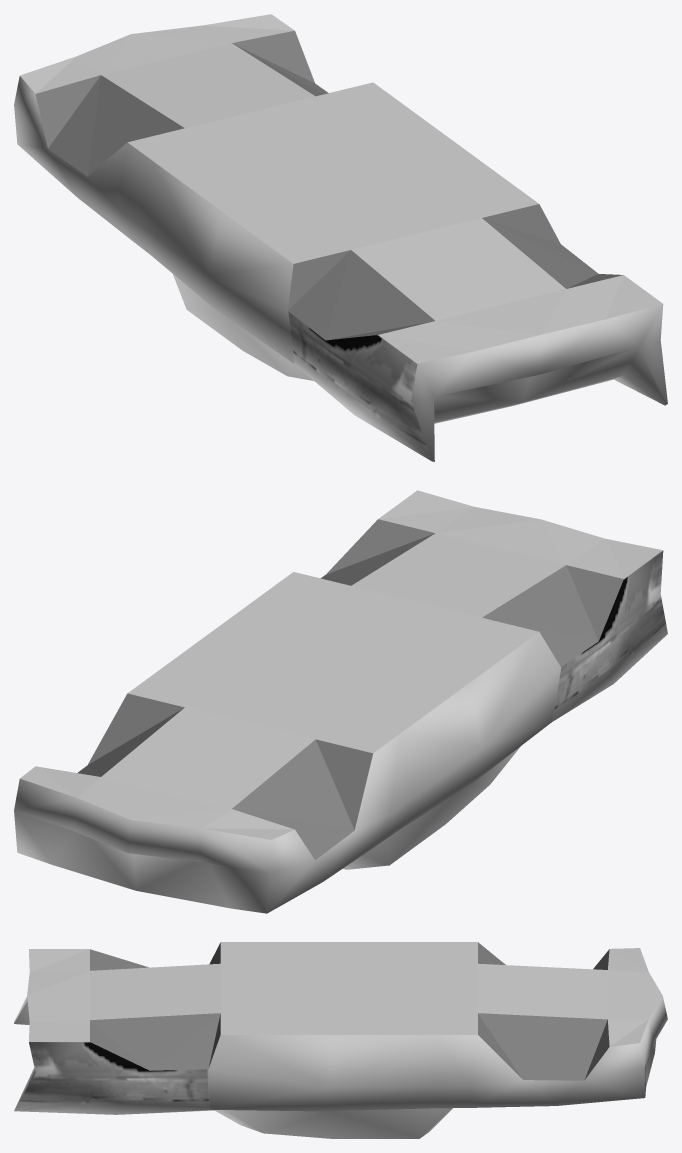
The model's file is HAVANA_model0_clean.obj.
3 renders of one model, top to bottom at view 1: azimuth 30°, elevation 25°; view 2: azimuth 150°, elevation 25°; view 3: azimuth 270°, elevation 25°, orthographic. The views are drawn at different scales.
Visible parts, largest first — view 1: HAVANA_model0_clean; view 2: HAVANA_model0_clean; view 3: HAVANA_model0_clean.
Part boxes in pixels (box(x1,y1,x2,y2)): HAVANA_model0_clean: box(14, 14, 667, 461); HAVANA_model0_clean: box(14, 490, 667, 913); HAVANA_model0_clean: box(14, 942, 667, 1138).
Size of the model in its own units: 1.88 by 1.18 by 5.
